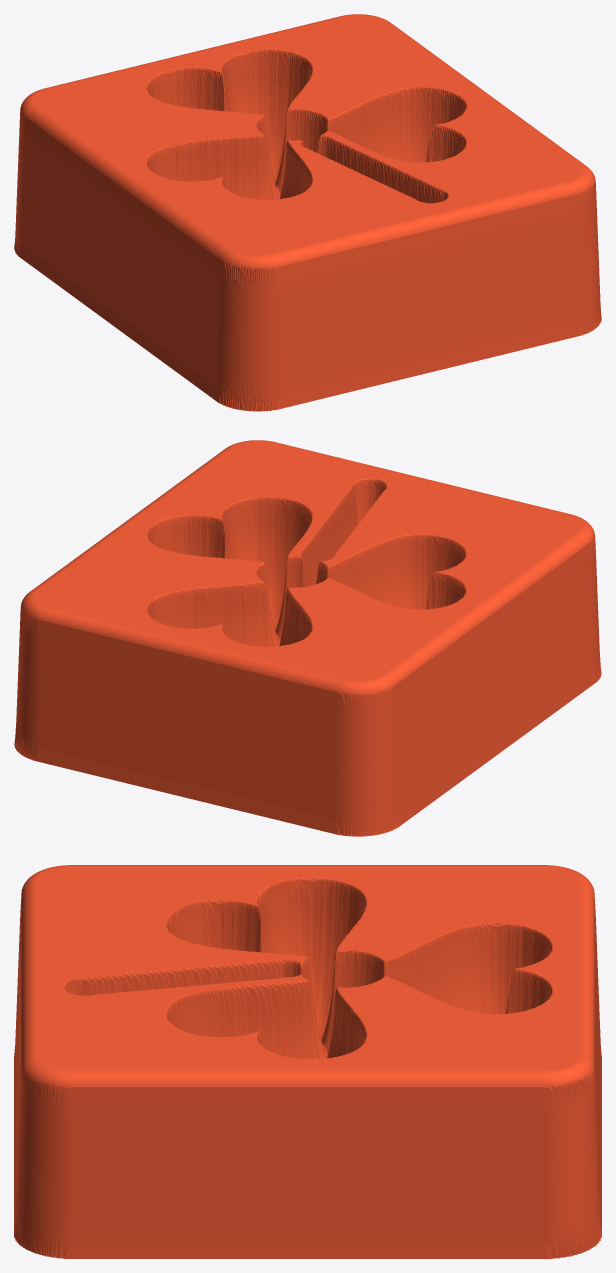
File: mold.glb
The picture shows the model from 3 angles, top to bottom: view 1: azimuth 30°, elevation 25°; view 2: azimuth 150°, elevation 25°; view 3: azimuth 270°, elevation 25°; orthographic projection. The views are drawn at different scales.
Visible parts, largest first — view 1: geometry_0; view 2: geometry_0; view 3: geometry_0.
Part boxes in pixels (x1,y1,x2,y2): geometry_0: [14, 14, 601, 411]; geometry_0: [14, 440, 601, 836]; geometry_0: [14, 865, 601, 1258].
Size of the model in its own units: 0.083 by 0.031 by 0.0924.
